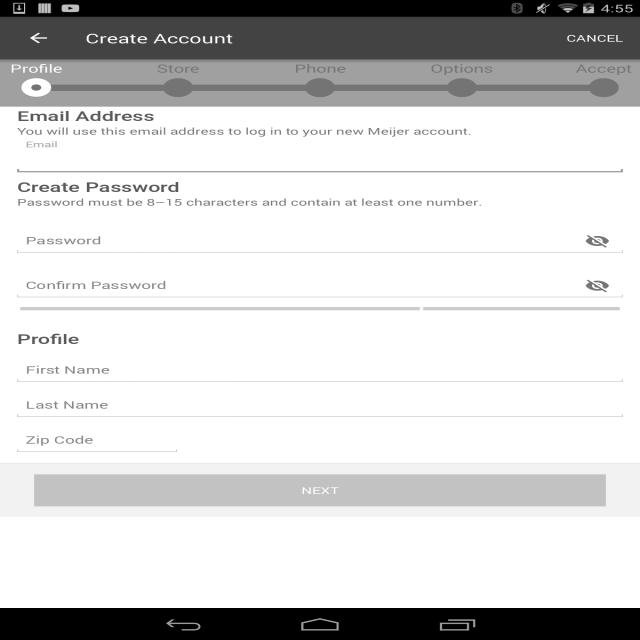Button: (34, 474, 606, 506)
EditText: (17, 228, 623, 254), (17, 392, 623, 418), (17, 273, 623, 298), (17, 148, 623, 172), (17, 358, 623, 382), (17, 428, 177, 452)
ImageButton: (9, 17, 68, 59), (572, 225, 623, 257), (572, 270, 623, 302)
TextView: (17, 196, 482, 208), (17, 125, 472, 137), (17, 178, 180, 195), (85, 29, 233, 47), (17, 106, 155, 125), (558, 22, 631, 54), (17, 330, 80, 348)
